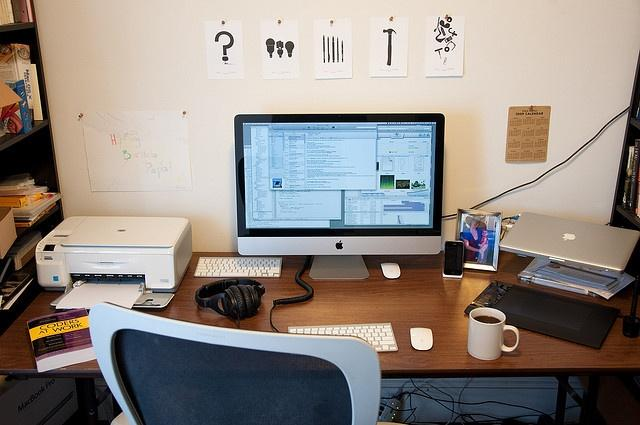AIO PC-Monitor-TV: (233, 112, 442, 281)
Printer: (34, 214, 191, 309)
